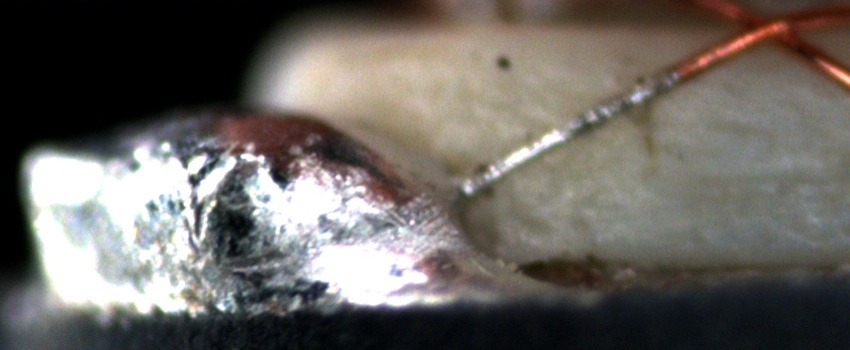CL: (723, 5, 803, 54)
DL: (618, 144, 850, 198)
TS: (453, 71, 678, 201)
